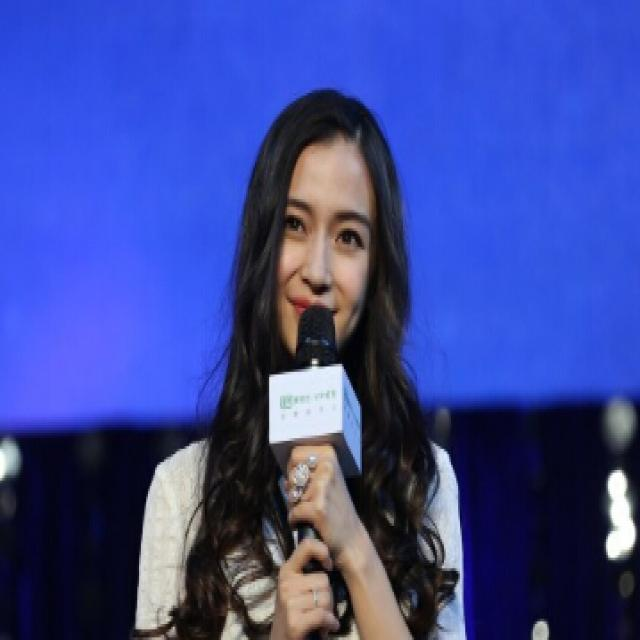nomask: (274, 168, 371, 358)
